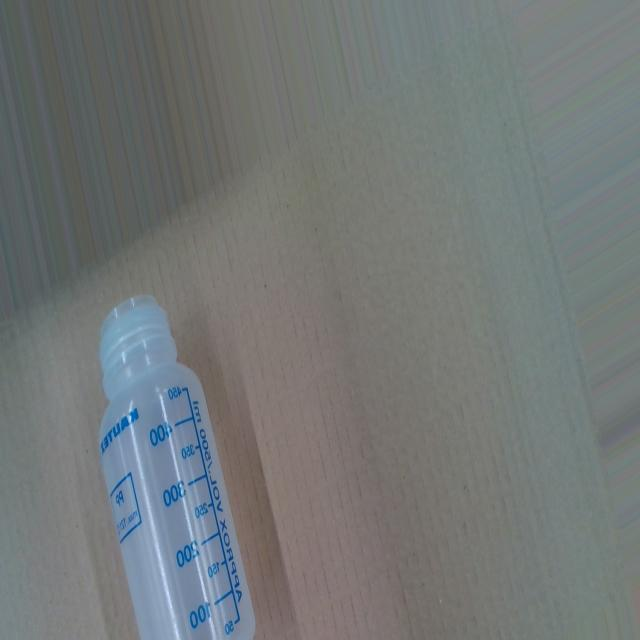bottle: (97, 293, 261, 640)
